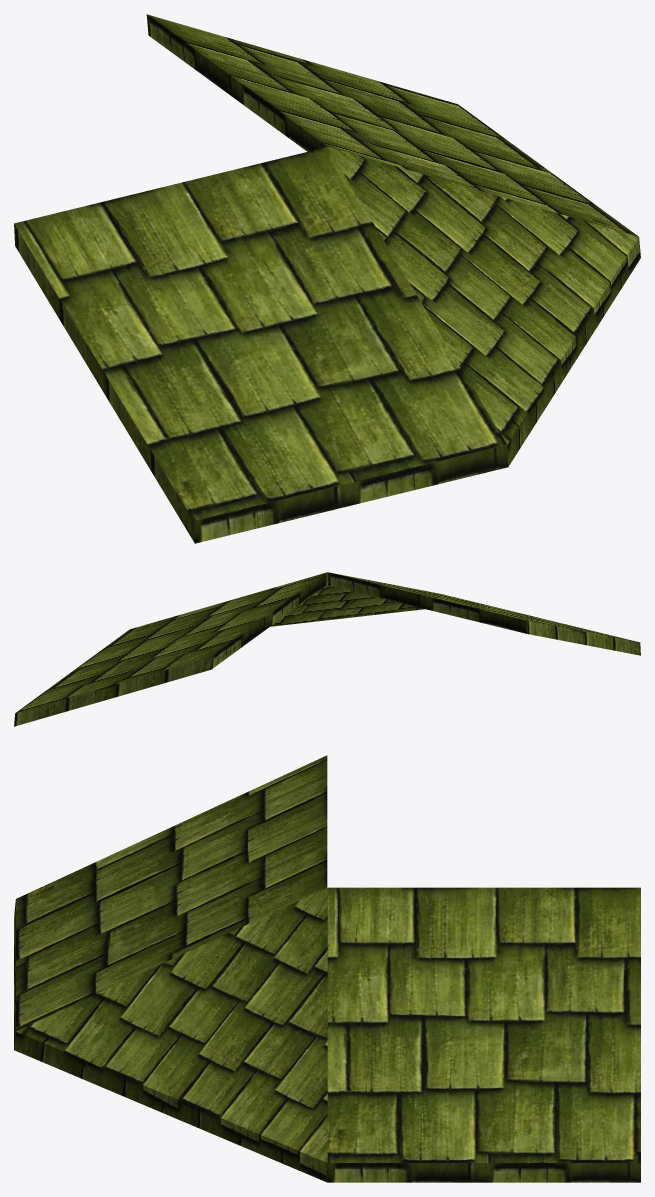
The model's file is roof corner 2.glb.
3 views of the same model, one above another, from view 1: azimuth 30°, elevation 25°; view 2: azimuth 150°, elevation 25°; view 3: azimuth 270°, elevation 25° (orthographic). The views are drawn at different scales.
Parts seen in each view (by area): view 1: Plane.003; view 2: Plane.003; view 3: Plane.003.
Boxes of the visible parts, x1,y1,x2,y2 form: Plane.003: (14,14,640,543); Plane.003: (14,572,640,726); Plane.003: (14,755,640,1182).
Size of the model in its own units: 2 by 0.5726 by 2.
1 material, 1 textured.
